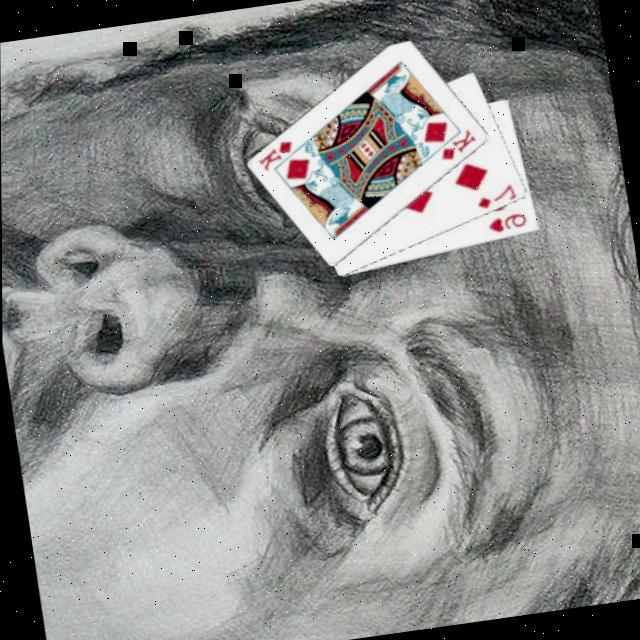7D: (474, 181, 521, 213)
9H: (486, 210, 533, 238)
KD: (437, 125, 483, 165), (255, 137, 301, 176)
